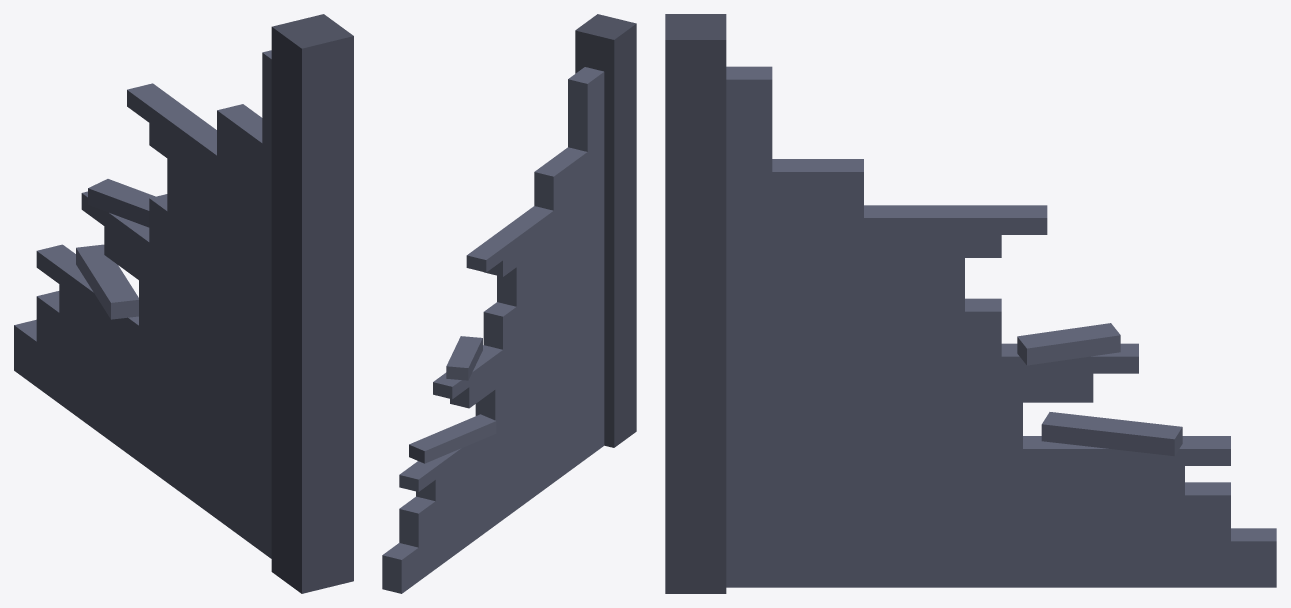
The model's file is wall-wood-broken.glb.
3 renders of one model, left to right at view 1: azimuth 30°, elevation 25°; view 2: azimuth 150°, elevation 25°; view 3: azimuth 270°, elevation 25°, orthographic. The views are drawn at different scales.
Parts seen in each view (by area): view 1: wall-wood-broken; view 2: wall-wood-broken; view 3: wall-wood-broken.
Boxes of the visible parts, left/top/right/bottom form: wall-wood-broken: left=14, top=14, right=353, bottom=593; wall-wood-broken: left=382, top=14, right=636, bottom=593; wall-wood-broken: left=665, top=14, right=1276, bottom=593.
Size of the model in its own units: 0.1129 by 1 by 1.
1 material, 1 textured.
